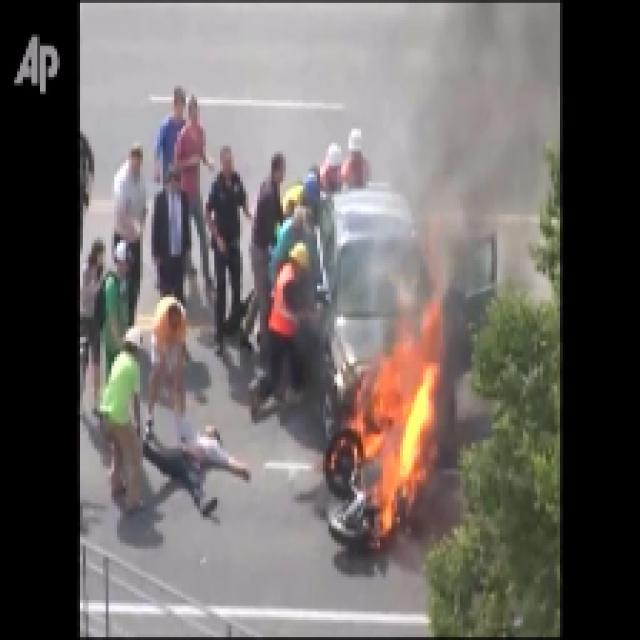Fire: (332, 280, 457, 563)
Smoke: (343, 0, 554, 286)
